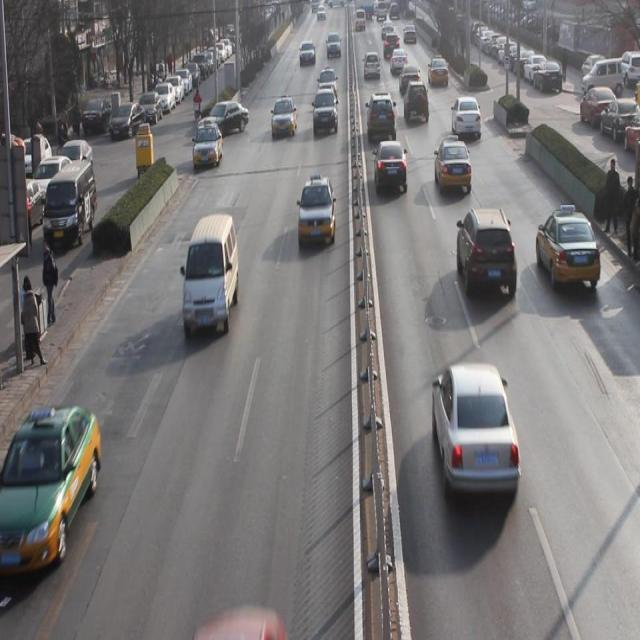car: (1, 414, 100, 569), (432, 361, 522, 507), (456, 208, 518, 304), (536, 208, 601, 296), (298, 175, 336, 249), (373, 137, 408, 198), (434, 139, 472, 195), (202, 102, 248, 137), (367, 94, 396, 146), (193, 122, 223, 170), (452, 96, 482, 140), (312, 92, 339, 138), (404, 79, 429, 127), (270, 96, 297, 140), (428, 55, 449, 90), (318, 69, 337, 100), (363, 50, 381, 82), (298, 42, 316, 67)
truck: (183, 216, 240, 339)
